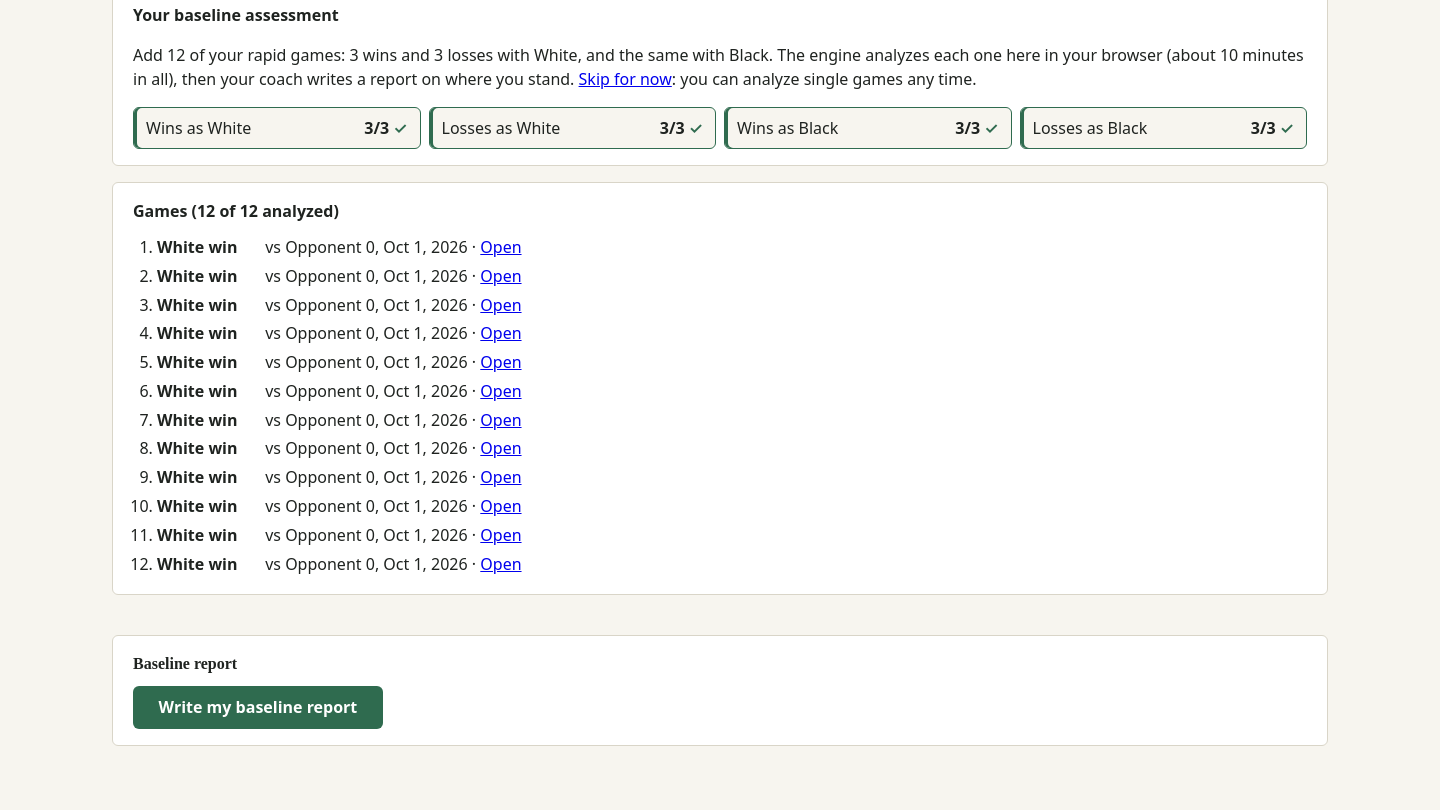
Test case: the baseline report › is written when all 12 games are analyzed
(page scrolled)
Click the button "Write my baseline report".
click(258, 707)  # box [133,686,383,729]
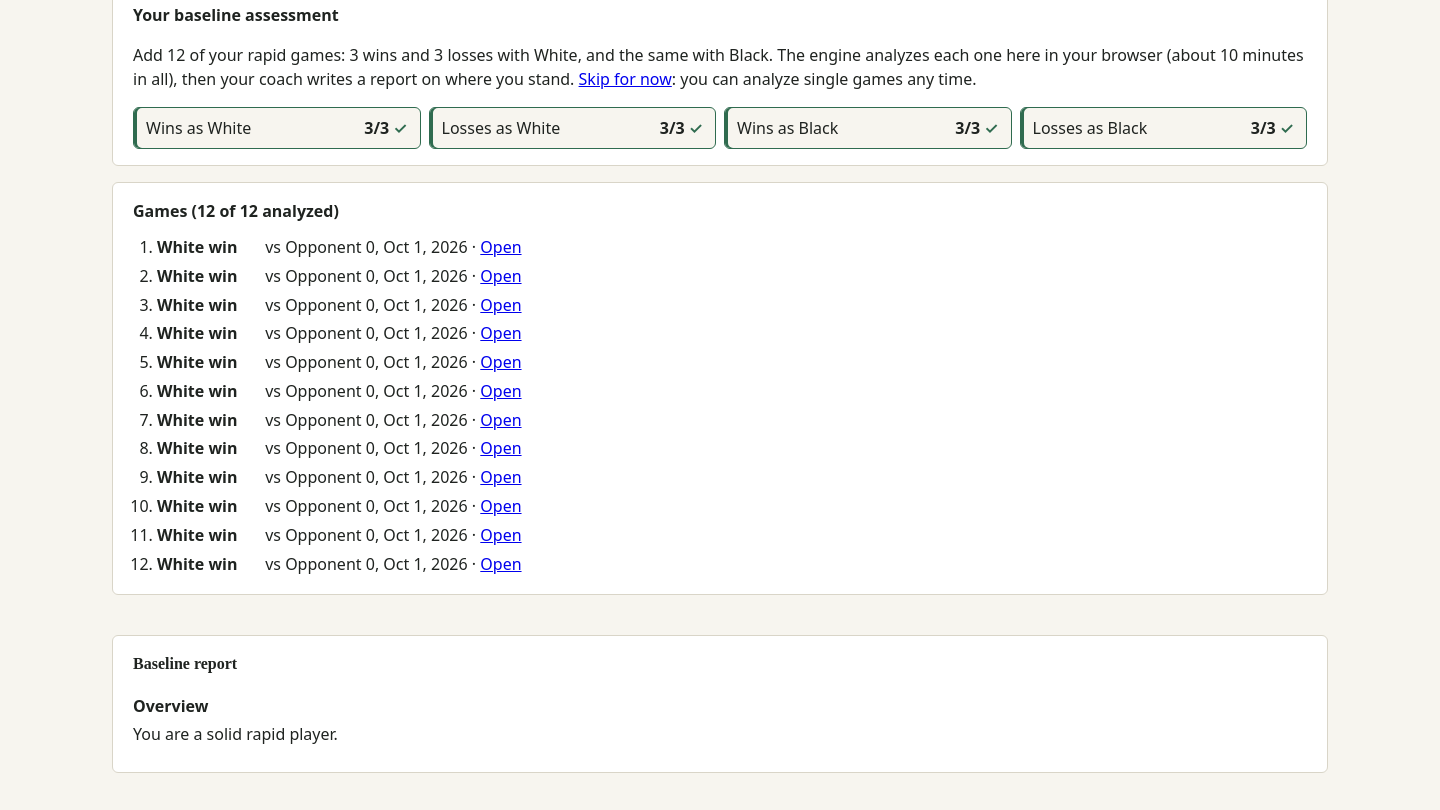
Result: the text "You are a solid rapid player." is shown at [133,723,338,745]
